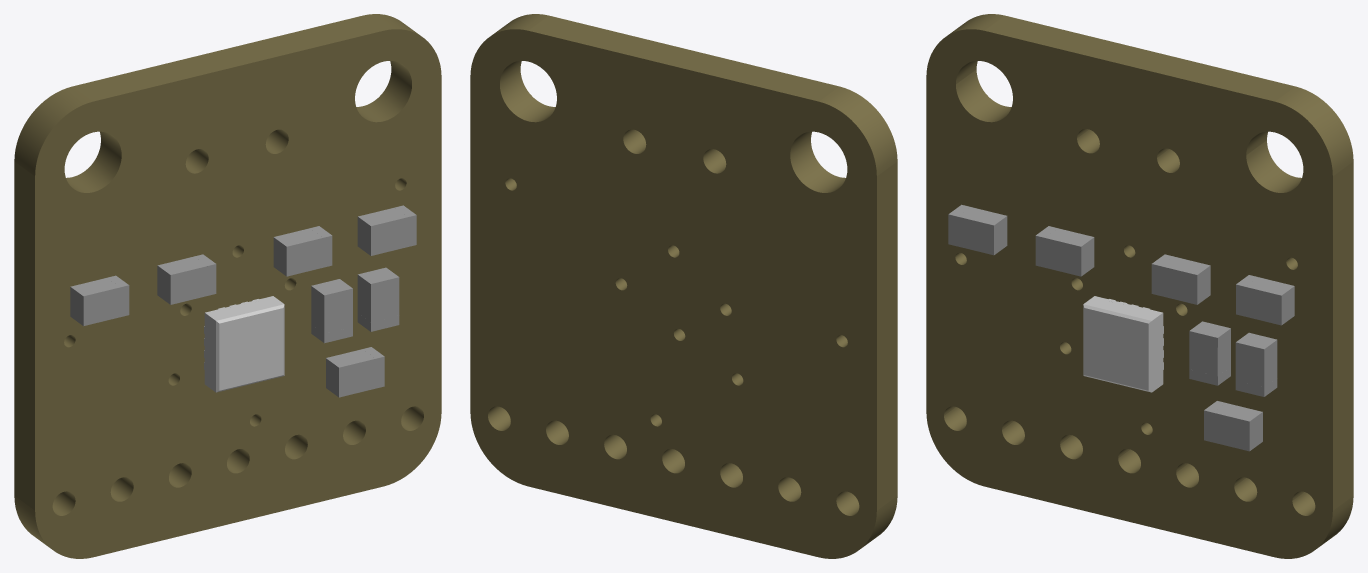
File: max98357a-adafruit-3006.glb
The picture shows the model from 3 angles, left to right: view 1: azimuth 30°, elevation 25°; view 2: azimuth 150°, elevation 25°; view 3: azimuth 330°, elevation 25°; orthographic projection.
Parts seen in each view (by area): view 1: Board, 0805-NO (×7), part_9; view 2: Board; view 3: Board, 0805-NO (×7), part_9.
Boxes of the visible parts, left/top/right/bottom form: Board: left=14, top=14, right=441, bottom=558; 0805-NO (×7): left=70, top=205, right=416, bottom=397; part_9: left=204, top=296, right=284, bottom=392; Board: left=470, top=14, right=897, bottom=558; Board: left=926, top=14, right=1353, bottom=558; 0805-NO (×7): left=948, top=204, right=1294, bottom=451; part_9: left=1083, top=296, right=1163, bottom=392.
Size of the model in its own units: 17.78 by 19.05 by 2.57.
